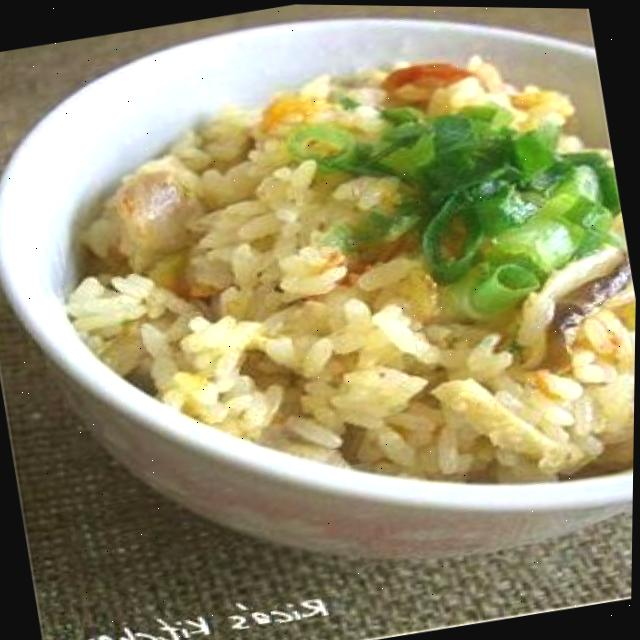米饭主食: (89, 1, 640, 519)
